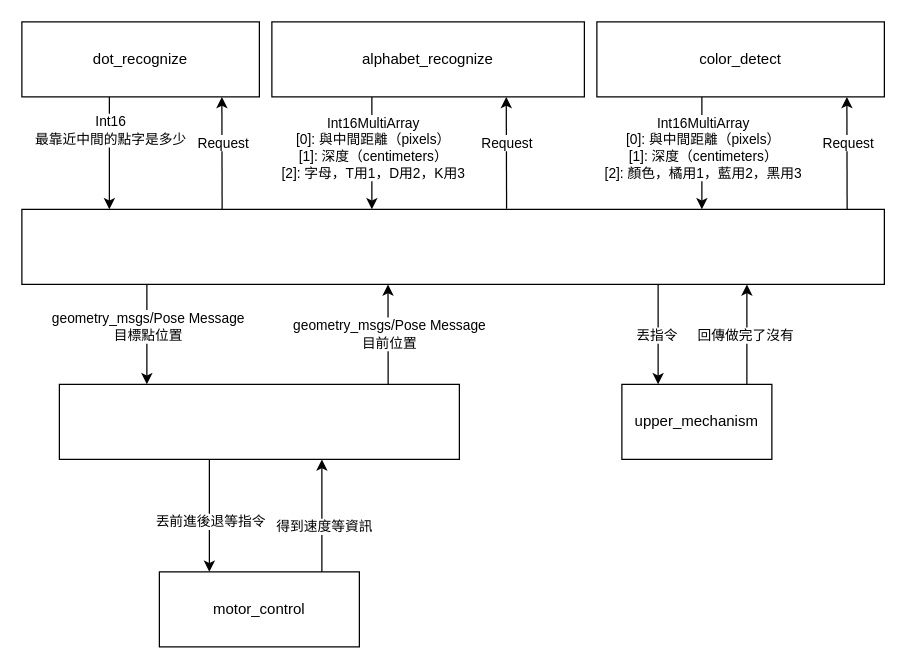
The diagram is 906 pixels wide and 669 high, and some of its shapes have lost their labels. The shapes that lost their labels are listed below. From the top down, each one's centre as x and y in pixels, then its label:
pixel 452 246: main_control
pixel 258 421: navigation
